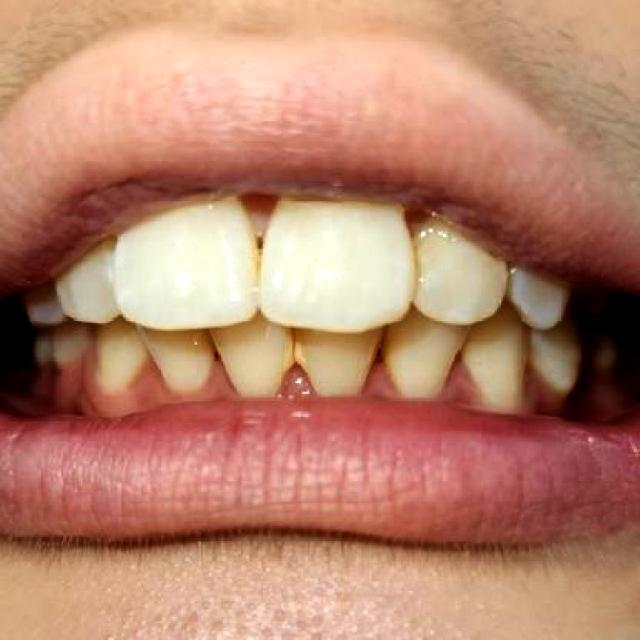Plaque: (268, 352, 327, 418), (360, 353, 404, 412)
